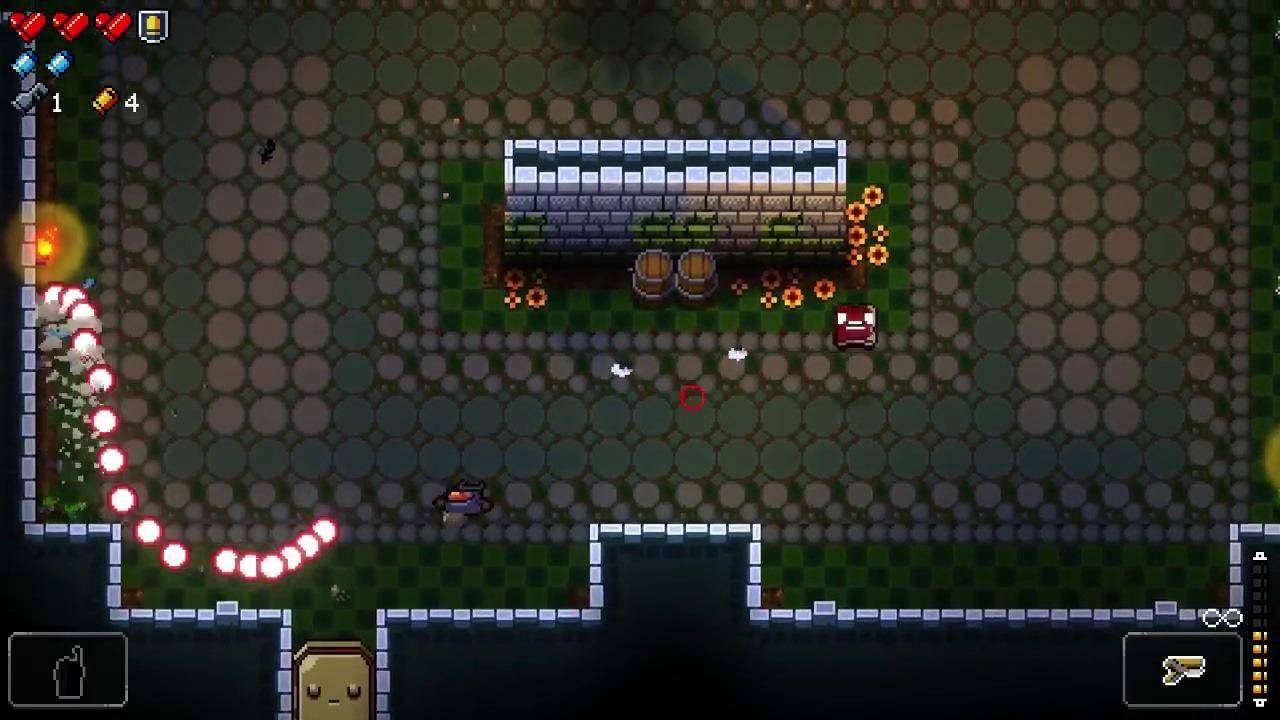bookllet_r: (834, 302, 878, 350)
bullet: (97, 445, 128, 478), (133, 515, 164, 547), (89, 406, 121, 437), (42, 282, 74, 312), (108, 485, 138, 515), (71, 329, 100, 359), (87, 365, 116, 394), (213, 546, 241, 576), (238, 551, 266, 580), (59, 286, 88, 314), (311, 517, 338, 546), (295, 532, 322, 561), (278, 543, 305, 572), (260, 552, 286, 582), (162, 543, 190, 570), (71, 301, 98, 329)
locked_door: (294, 640, 376, 720)
player: (433, 479, 494, 516)
wall: (505, 139, 848, 272)
